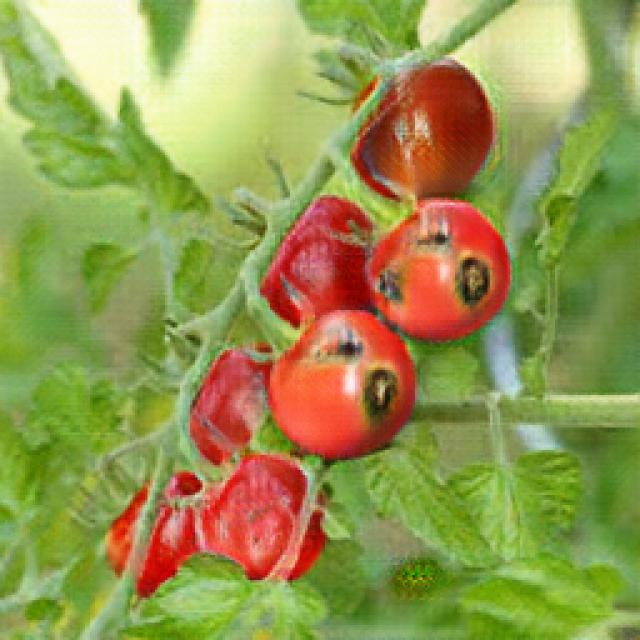overripe tomato: (274, 309, 414, 455), (370, 198, 505, 331), (191, 458, 330, 579)
